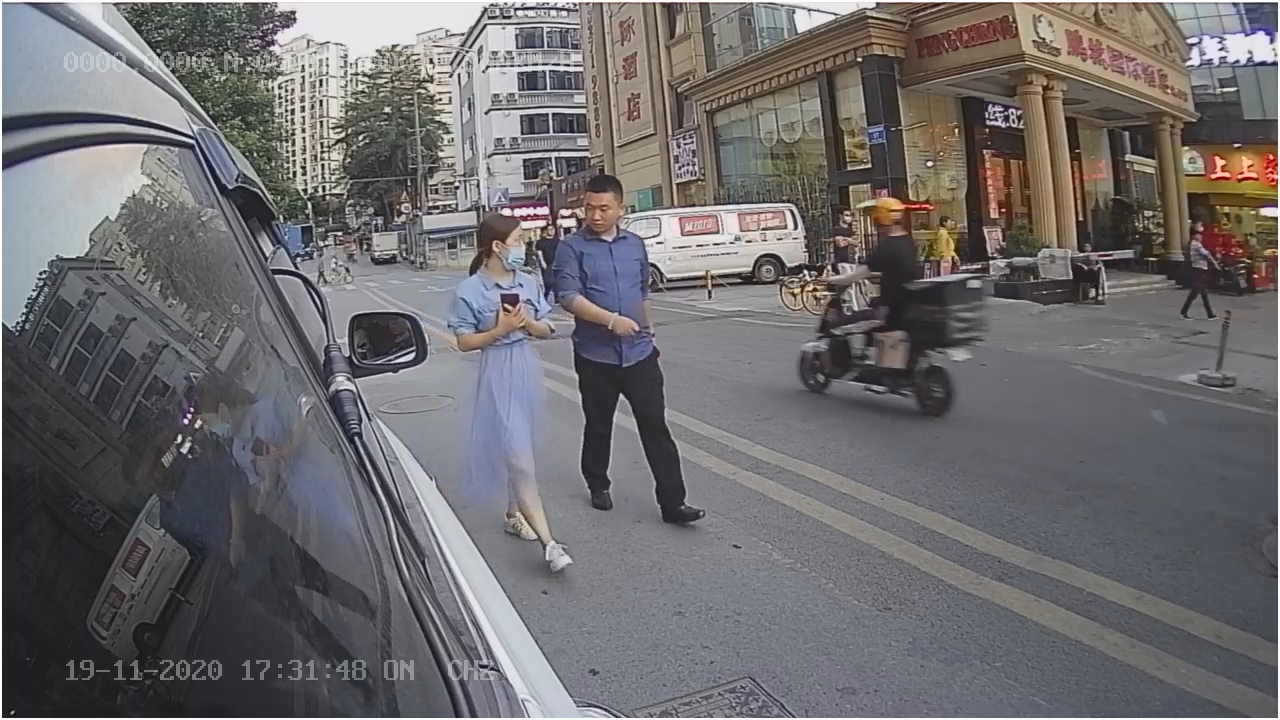person: (554, 175, 693, 500), (447, 214, 556, 493)
